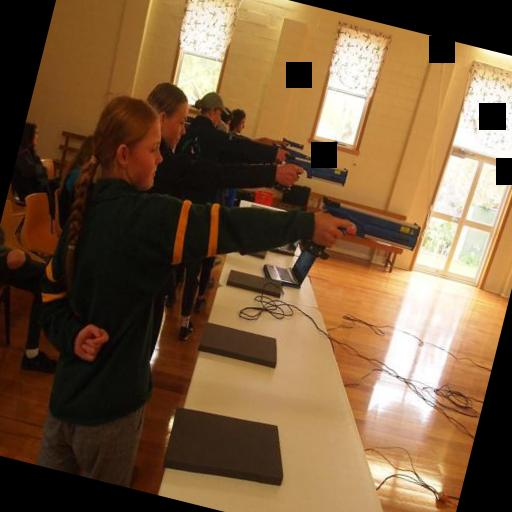Handgun: (306, 190, 424, 272), (280, 152, 350, 190), (276, 145, 314, 163), (280, 135, 304, 151)
